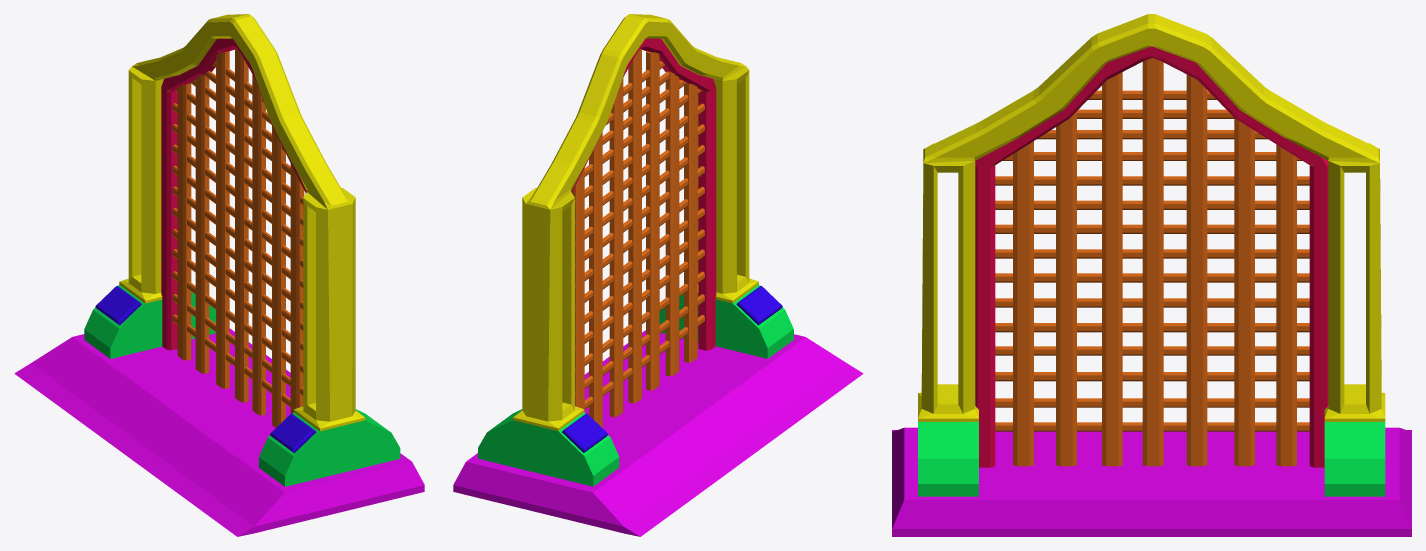
File: BossGate.fbx
The picture shows the model from 3 angles, left to right: view 1: azimuth 30°, elevation 25°; view 2: azimuth 150°, elevation 25°; view 3: azimuth 270°, elevation 25°; orthographic projection. The views are drawn at different scales.
Parts seen in each view (by area): view 1: Gate, Grate; view 2: Gate, Grate; view 3: Grate, Gate.
Boxes of the visible parts, <box> form: Gate: <box>14,14,424,536</box>; Grate: <box>161,38,306,427</box>; Gate: <box>453,14,863,536</box>; Grate: <box>571,38,716,427</box>; Grate: <box>975,46,1328,467</box>; Gate: <box>892,14,1411,536</box>.
Size of the model in its own units: 870 by 1833 by 1794.
